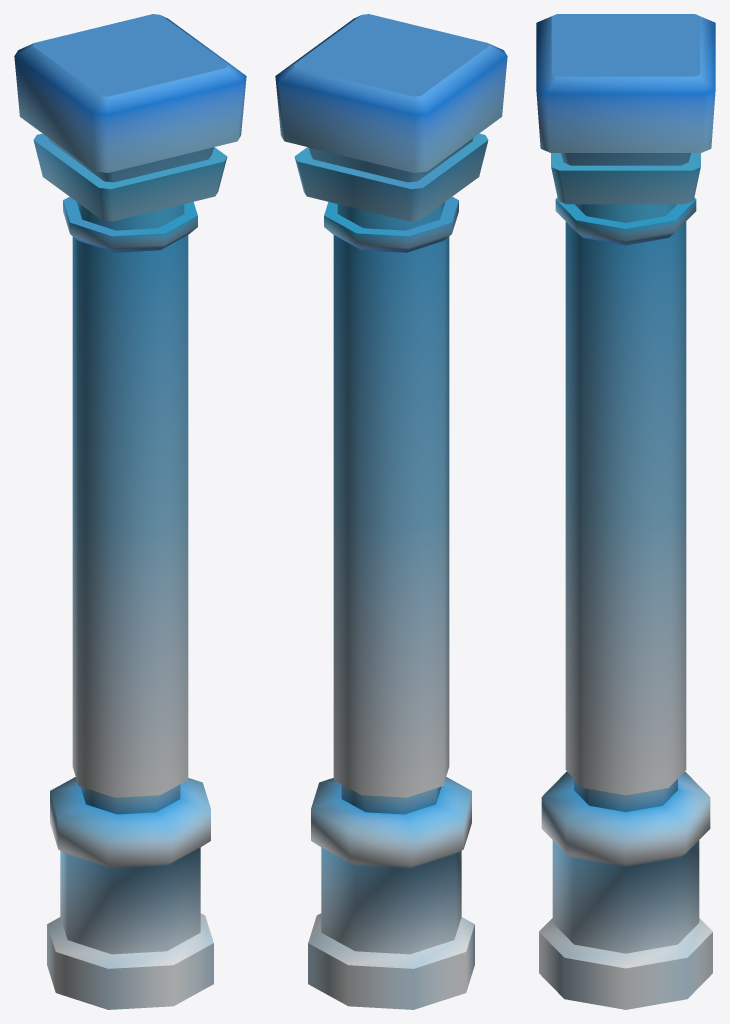
File: RoundPillar.gltf
The picture shows the model from 3 angles, left to right: view 1: azimuth 30°, elevation 25°; view 2: azimuth 150°, elevation 25°; view 3: azimuth 270°, elevation 25°; orthographic projection.
Parts seen in each view (by area): view 1: RoundPillarMesh; view 2: RoundPillarMesh; view 3: RoundPillarMesh.
Boxes of the visible parts, x1,y1,x2,y2 form: RoundPillarMesh: [14, 14, 246, 1009]; RoundPillarMesh: [275, 14, 507, 1009]; RoundPillarMesh: [536, 14, 715, 1009].
Size of what is drawn, in the model's own units: 2.65 by 15.13 by 2.65.
